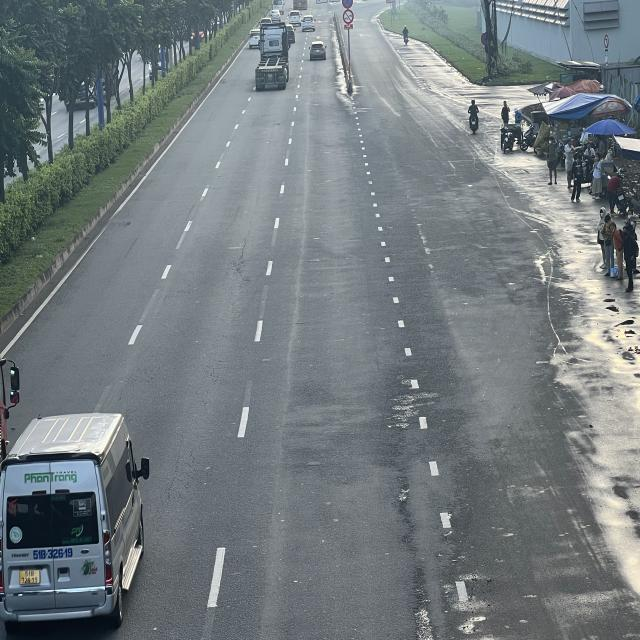container: (256, 23, 293, 90)
van: (0, 412, 145, 632)
